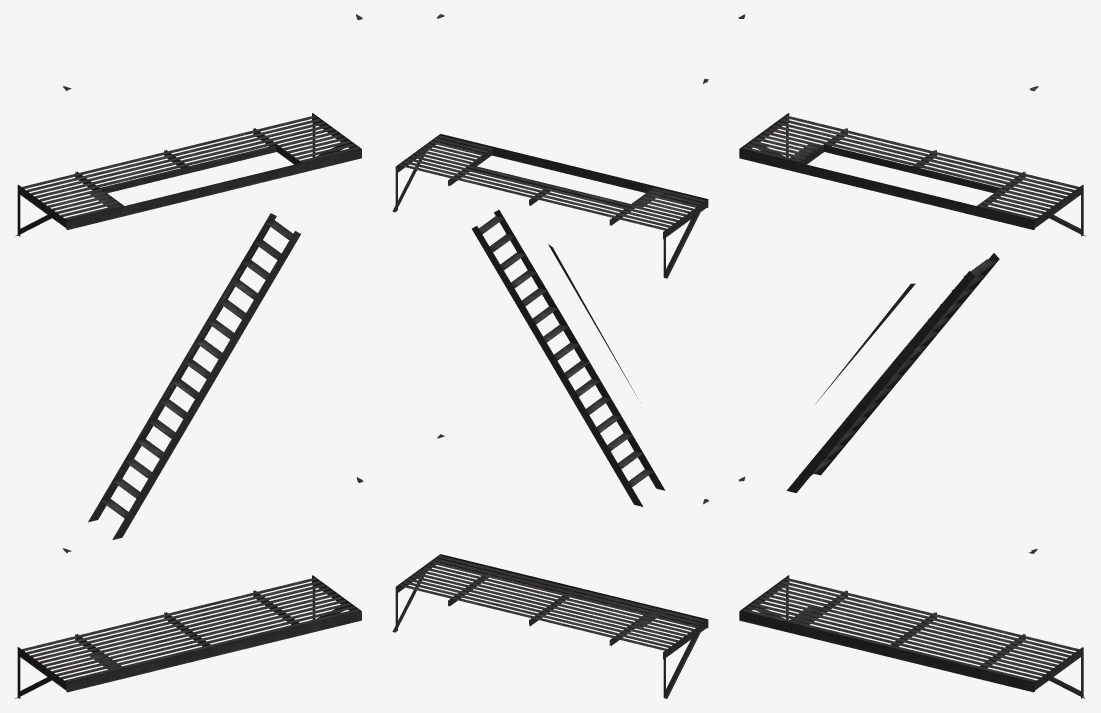
Rendered from ph_modular_fire_escape.glb.
3 views of the same model, side by side, from view 1: azimuth 30°, elevation 25°; view 2: azimuth 150°, elevation 25°; view 3: azimuth 330°, elevation 25° (orthographic). The views are drawn at different scales.
Parts seen in each view (by area): view 1: modular_fire_escape_railing_middle; view 2: modular_fire_escape_railing_middle; view 3: modular_fire_escape_railing_middle.
Boxes of the visible parts, x1,y1,x2,y2 form: modular_fire_escape_railing_middle: (15, 14, 363, 698); modular_fire_escape_railing_middle: (392, 14, 708, 698); modular_fire_escape_railing_middle: (738, 14, 1085, 698).
Size of the model in its own units: 4.79 by 9.76 by 1.39.
3 materials, 3 textured.
